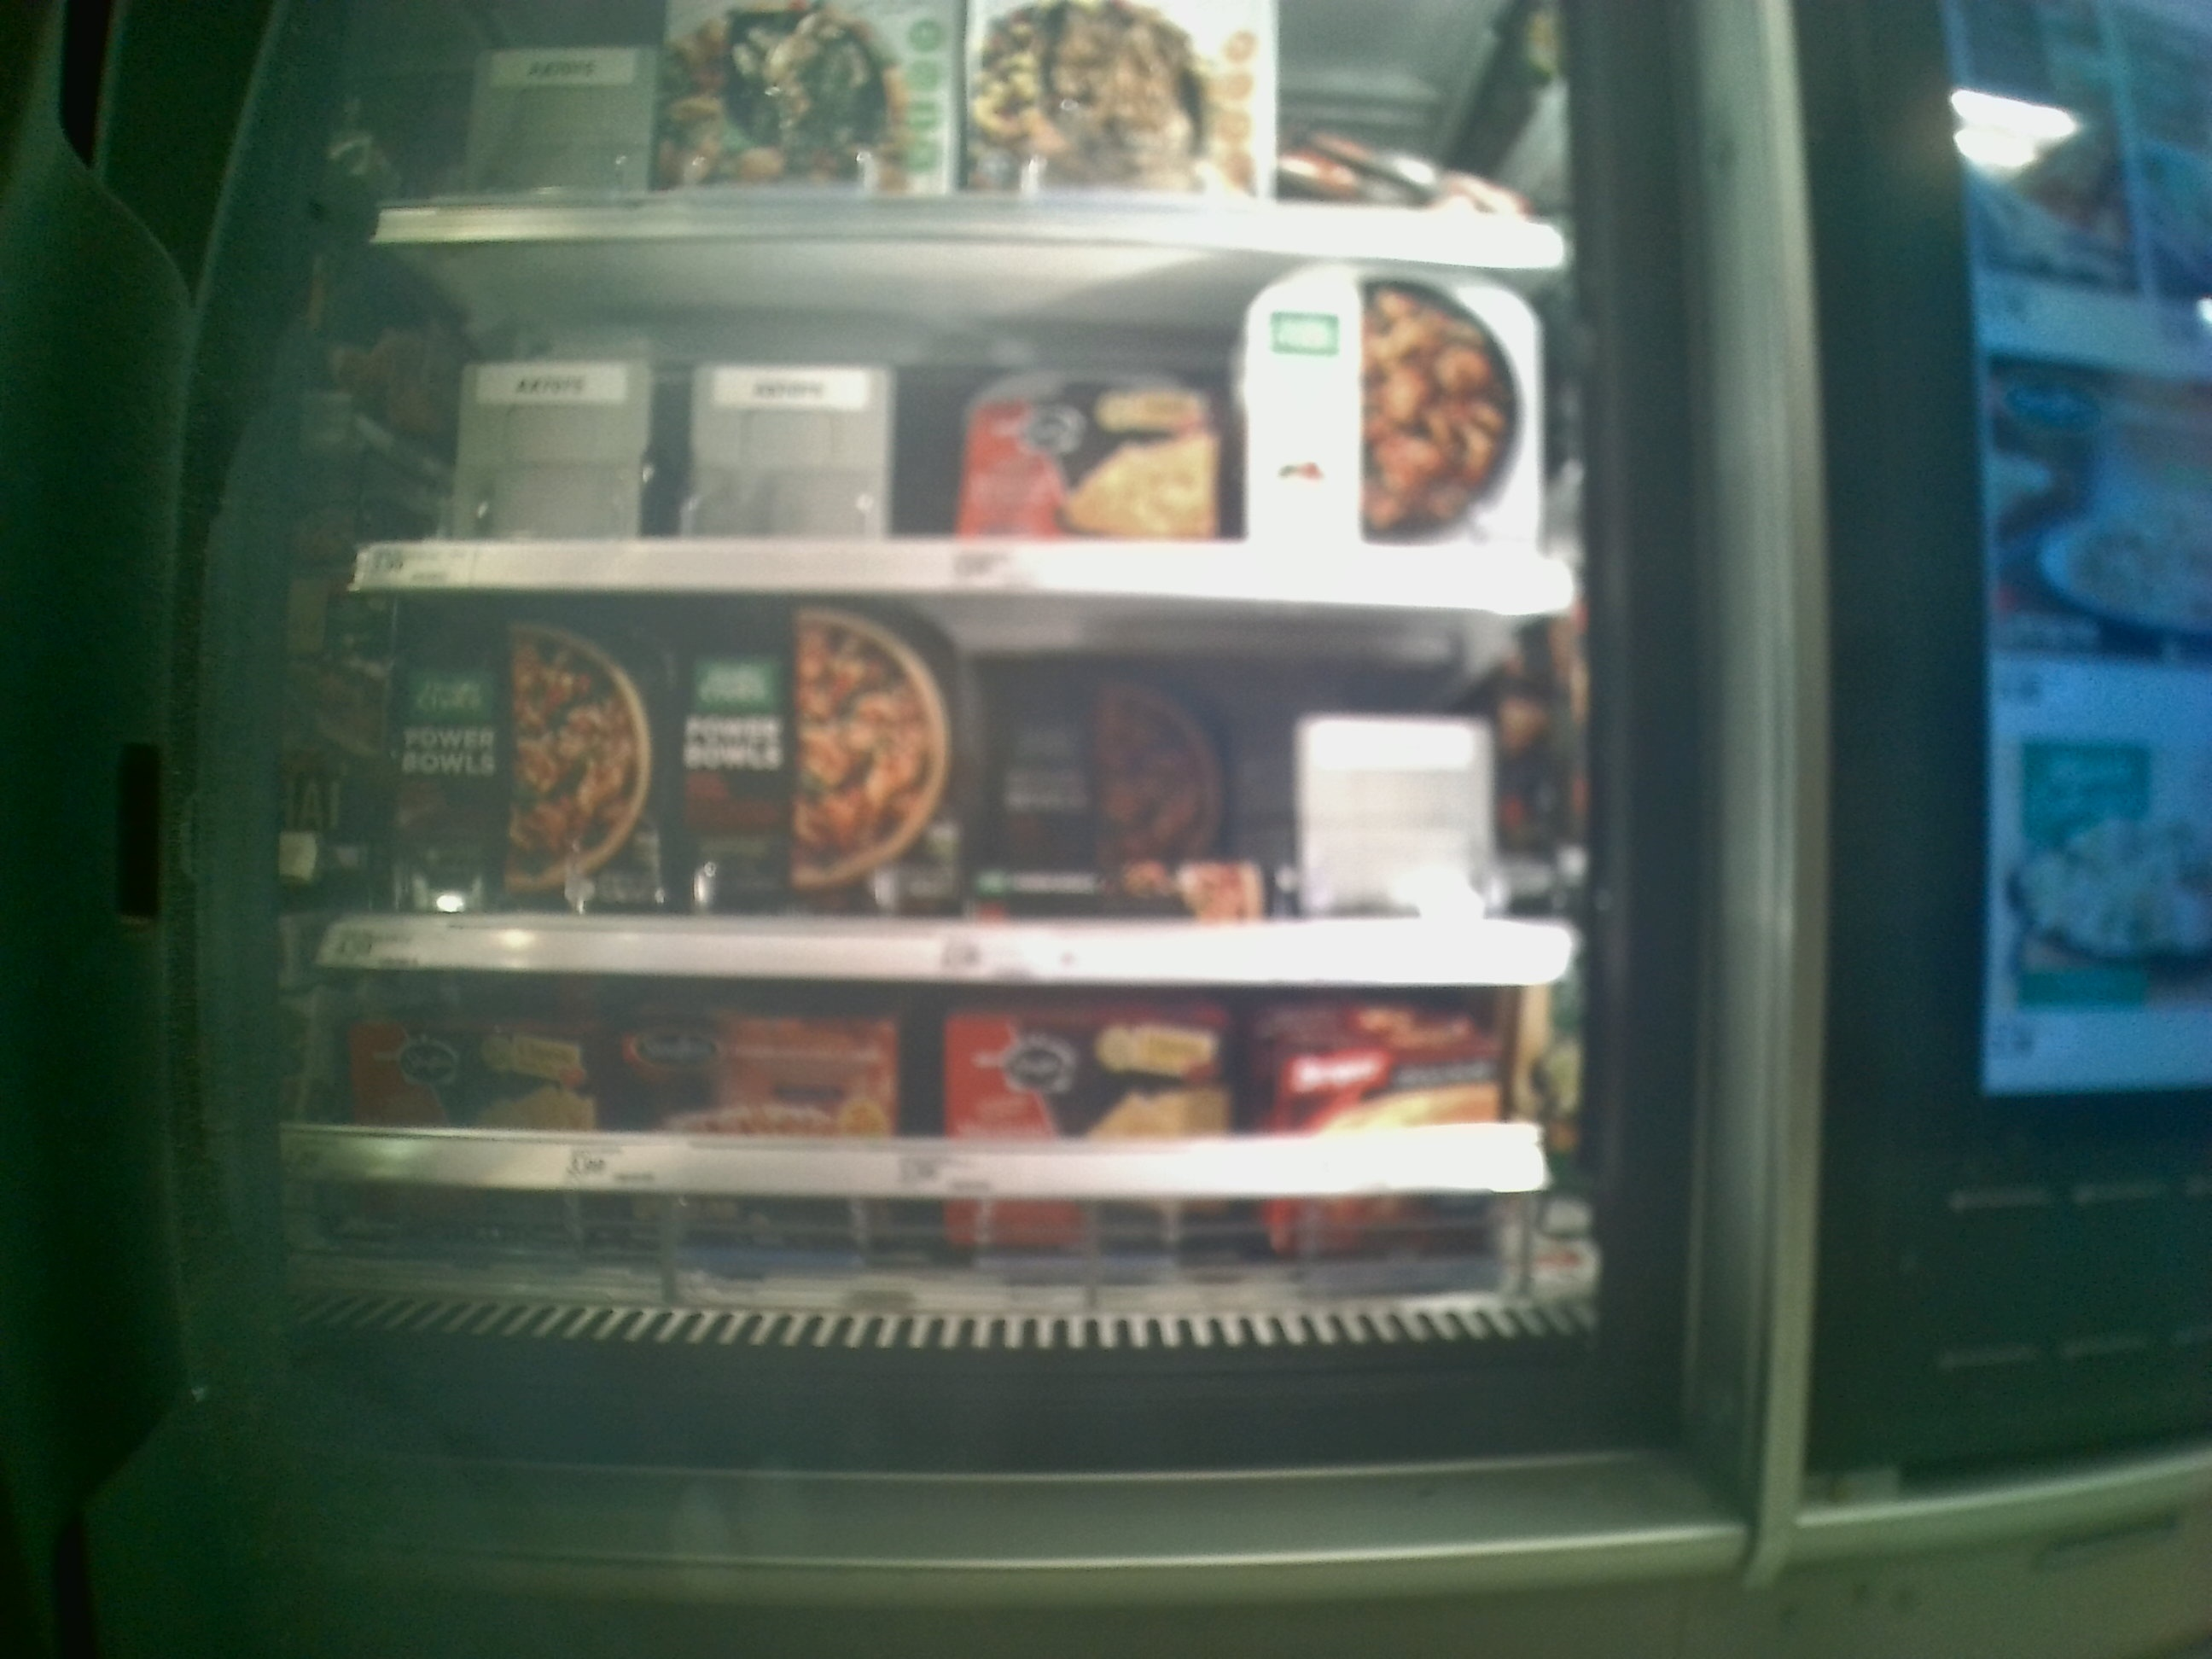shelf: (298, 964, 1594, 1364), (336, 592, 1576, 988), (355, 220, 1564, 603)
